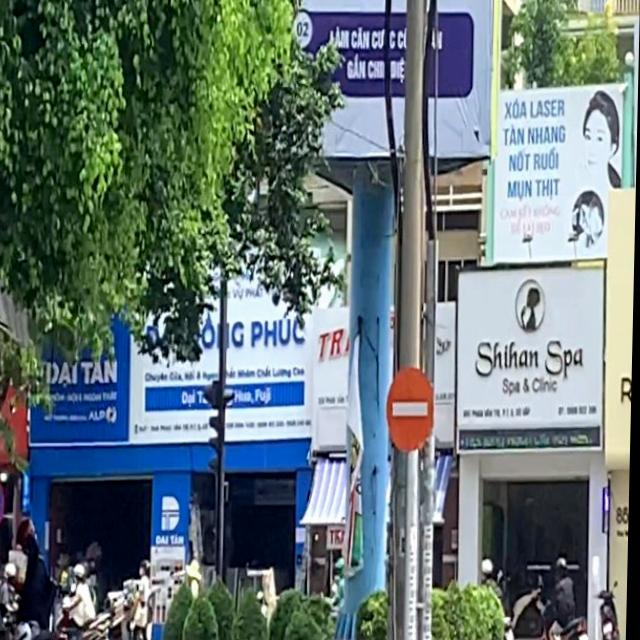Cam di nguoc chieu: (385, 364, 439, 456)
Cam do xe: (0, 480, 8, 528)
